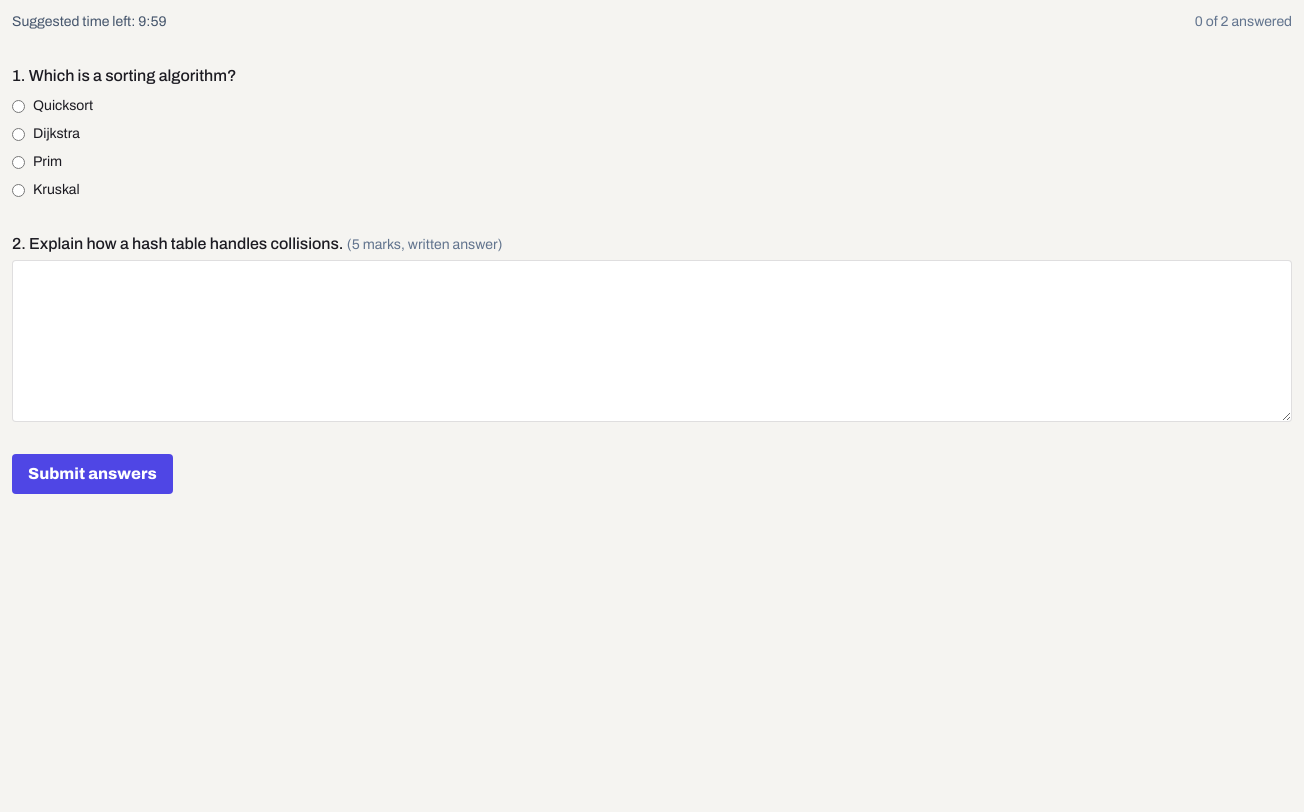
Test: AssessmentTaker › keeps the answers and shows the message when the server fails
In the text box: (652, 341) [12, 260, 1292, 422], type "My answer"
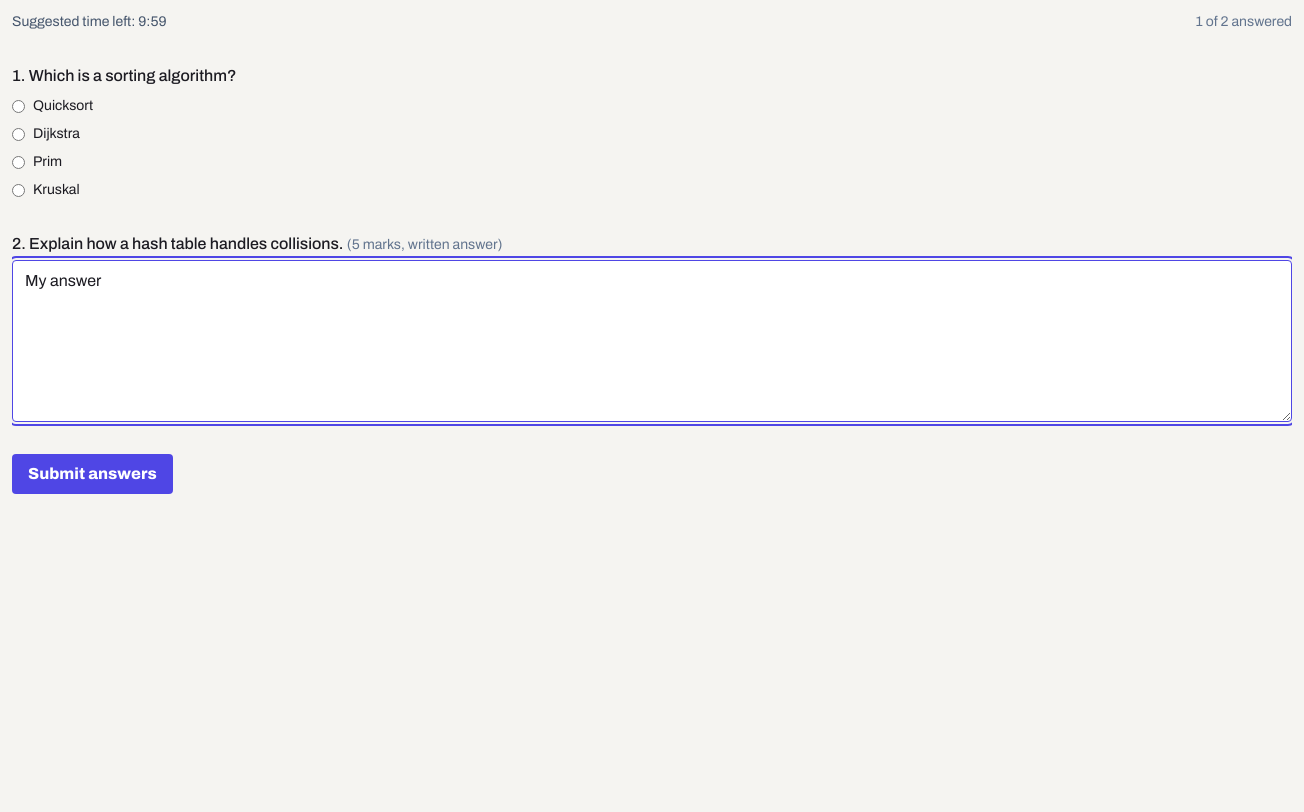
Click the button "Submit answers": (92, 474) [12, 454, 173, 494]
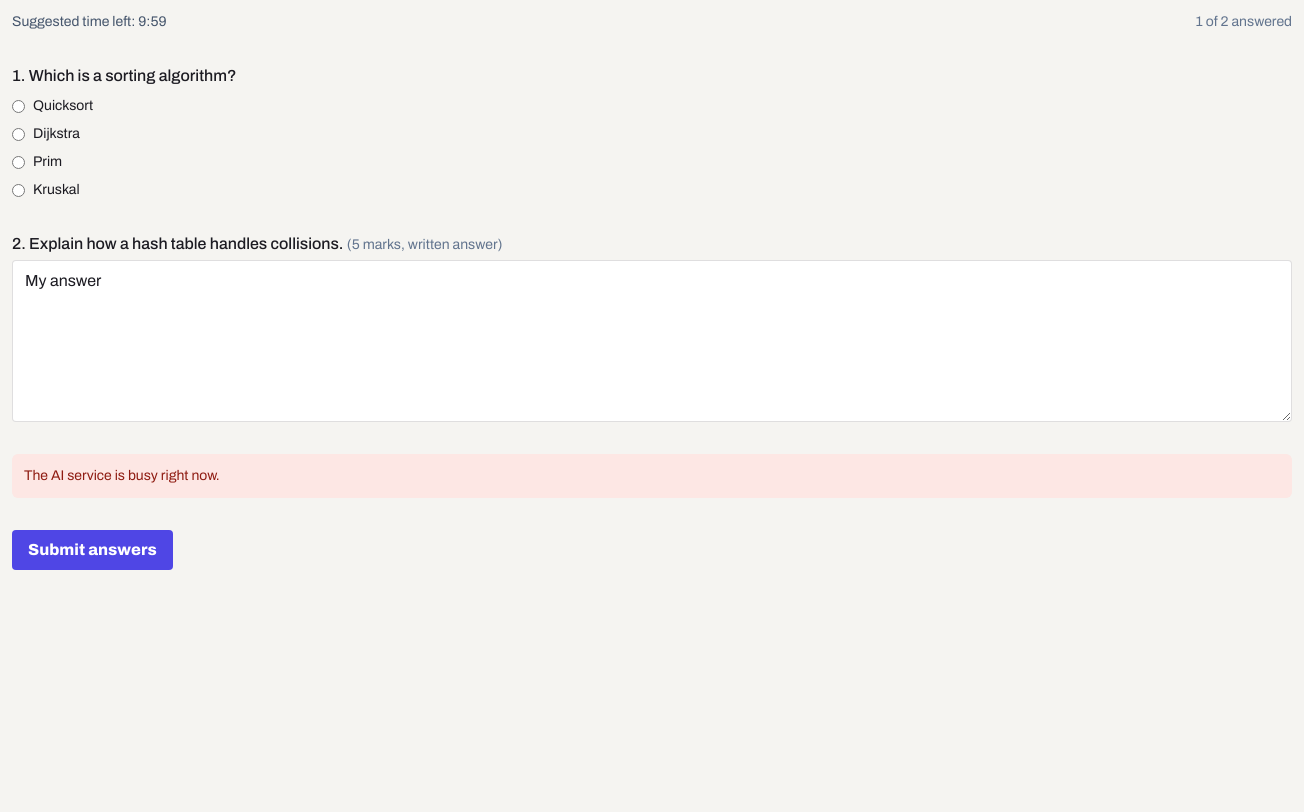
expect the message "The AI service is busy right now." is shown: met, box [12, 454, 1292, 498]
